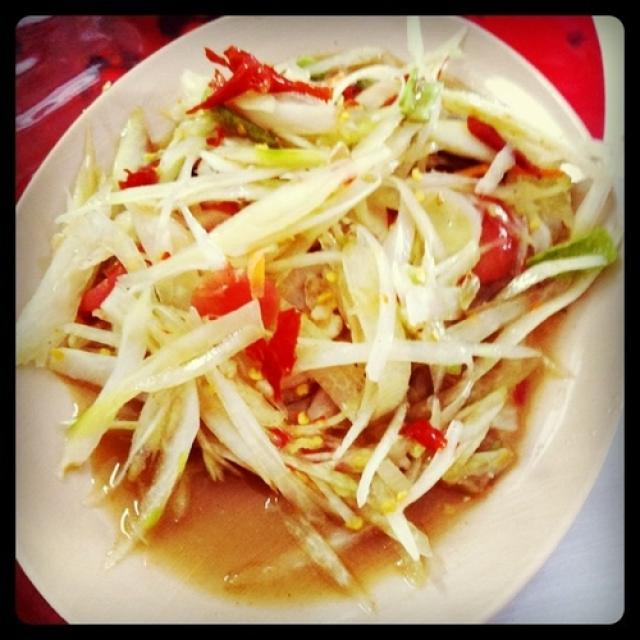蔬菜料理: (55, 53, 589, 596)
